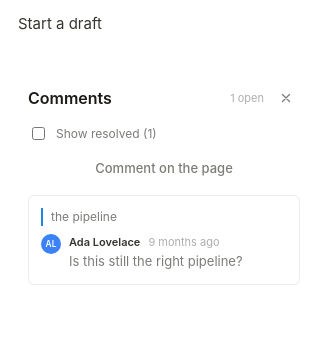
Test: the comments panel › hides a resolved thread until somebody asks for it
(page scrolled)
Click the checkbox at [38, 134], box [32, 127, 45, 140]
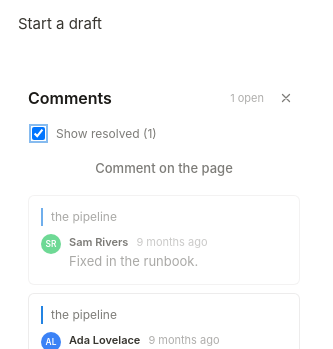
Expected: the text "Fixed in the runbook." is shown, [69, 252, 198, 268]
Click the list item that starts with "the pipeline" at [164, 240], box [28, 195, 300, 285]
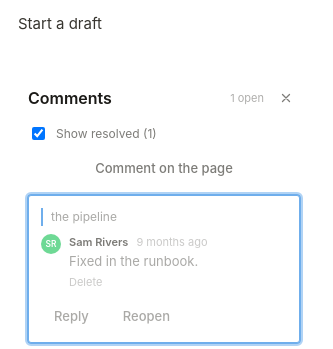
Expected: the button "Reopen" is shown, [110, 302, 183, 330]
